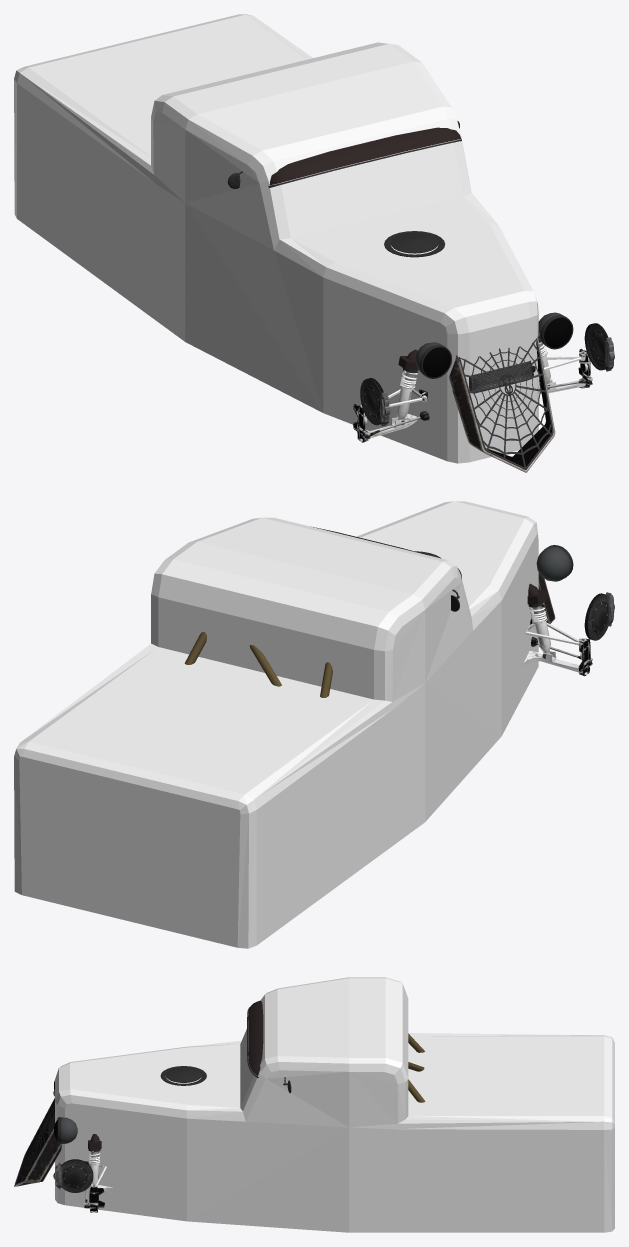
The model's file is HotRod.fbx.
3 renders of one model, top to bottom at view 1: azimuth 30°, elevation 25°; view 2: azimuth 150°, elevation 25°; view 3: azimuth 270°, elevation 25°, orthographic. The views are drawn at different scales.
Visible parts, largest first — view 1: Shadowcaster, BodyH, CaliperFR, CaliperFL; view 2: Shadowcaster, BodyH, CaliperFR; view 3: Shadowcaster, BodyH, CaliperFL.
Boxes of the visible parts, left/top/right/bottom form: Shadowcaster: left=14, top=14, right=538, bottom=463; BodyH: left=227, top=121, right=592, bottom=472; CaliperFR: left=360, top=378, right=390, bottom=426; CaliperFL: left=584, top=323, right=614, bottom=371; Shadowcaster: left=14, top=501, right=538, bottom=948; BodyH: left=184, top=527, right=592, bottom=697; CaliperFR: left=584, top=592, right=614, bottom=640; Shadowcaster: left=55, top=977, right=614, bottom=1232; BodyH: left=14, top=1000, right=425, bottom=1212; CaliperFL: left=53, top=1159, right=93, bottom=1192.
Size of the model in its own units: 1.64 by 1.47 by 4.7.
